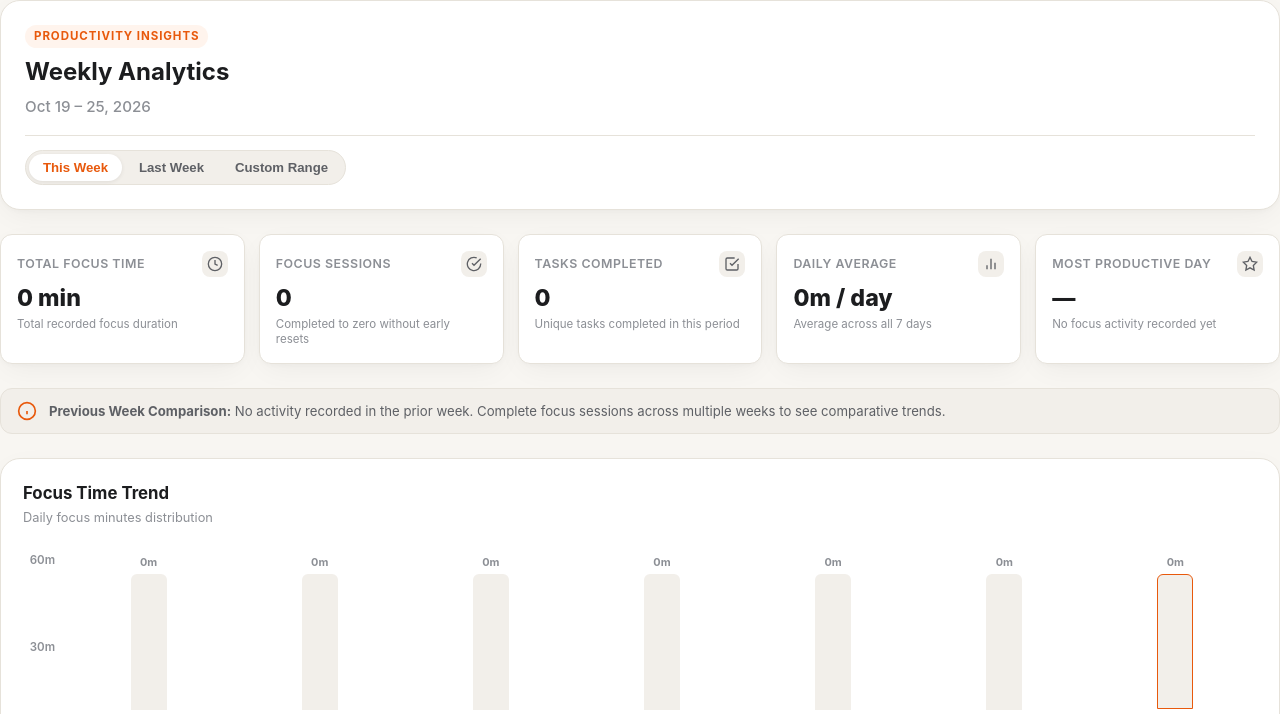
Scenario: Feature 7: Weekly Productivity Analytics Integration Tests › switches between This Week, Last Week, and Custom Range filters
Switch to Last Week
Click the tab with test id "range-last-week" at (172, 168), box left=125, top=154, right=218, bottom=181
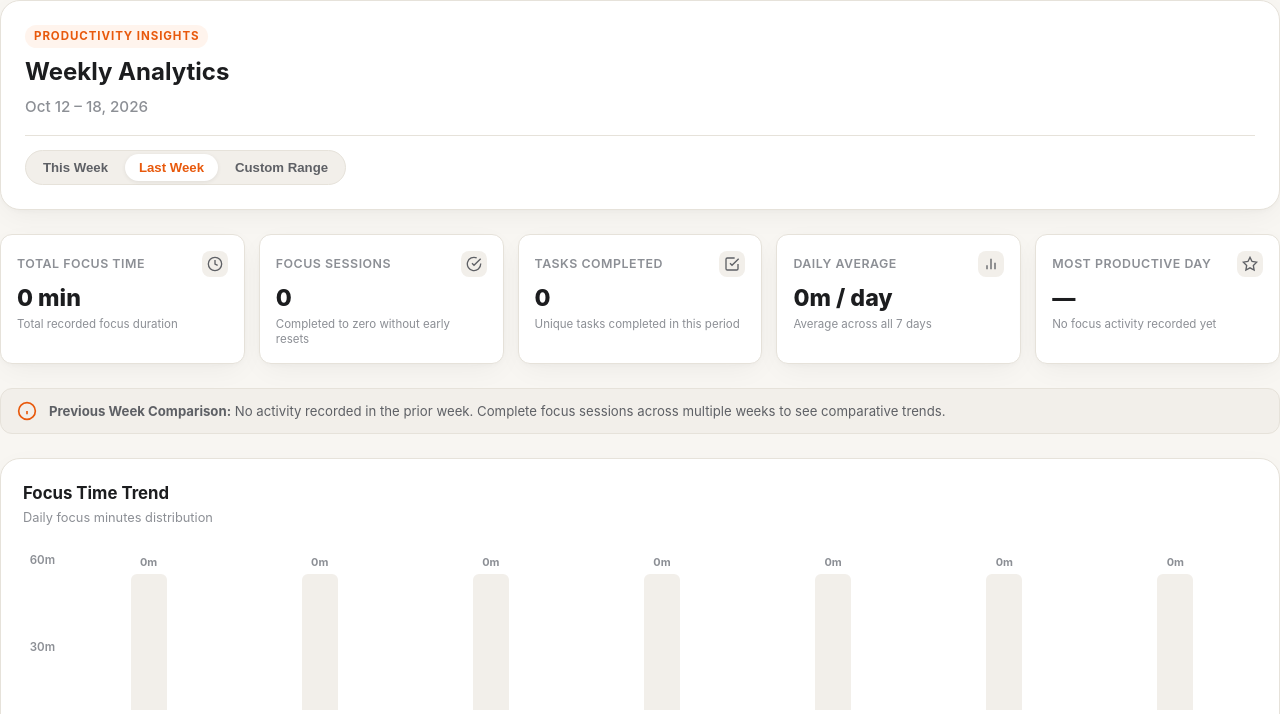
Result: the tab with test id "range-last-week" has class "active" at left=125, top=154, right=218, bottom=181
Result: the tab with test id "range-this-week" does not have class "active" at left=29, top=154, right=122, bottom=181
Switch to Custom Range
Click the tab with test id "range-custom" at (282, 168), box left=221, top=154, right=342, bottom=181
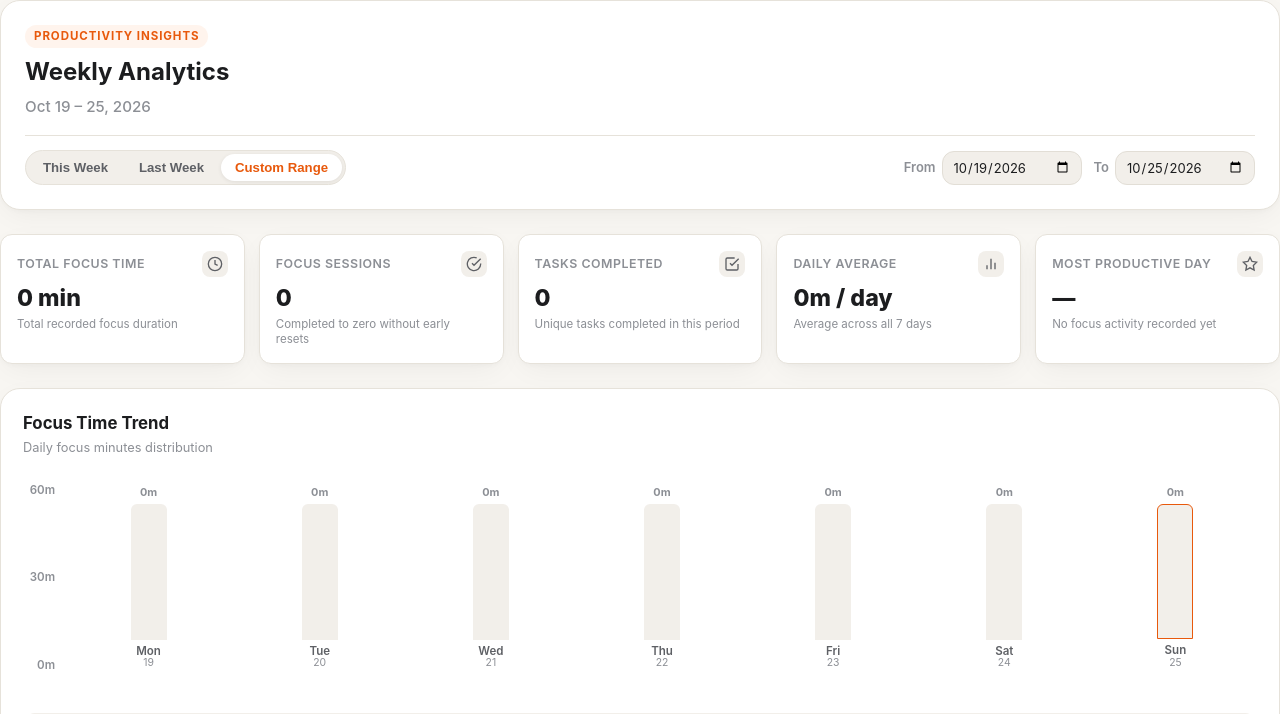
Result: the element with test id "custom-range-picker" is shown at left=904, top=151, right=1255, bottom=185
Type "2026-10-01" into the date field with test id "custom-start-input" at (1012, 168), box left=942, top=151, right=1082, bottom=185
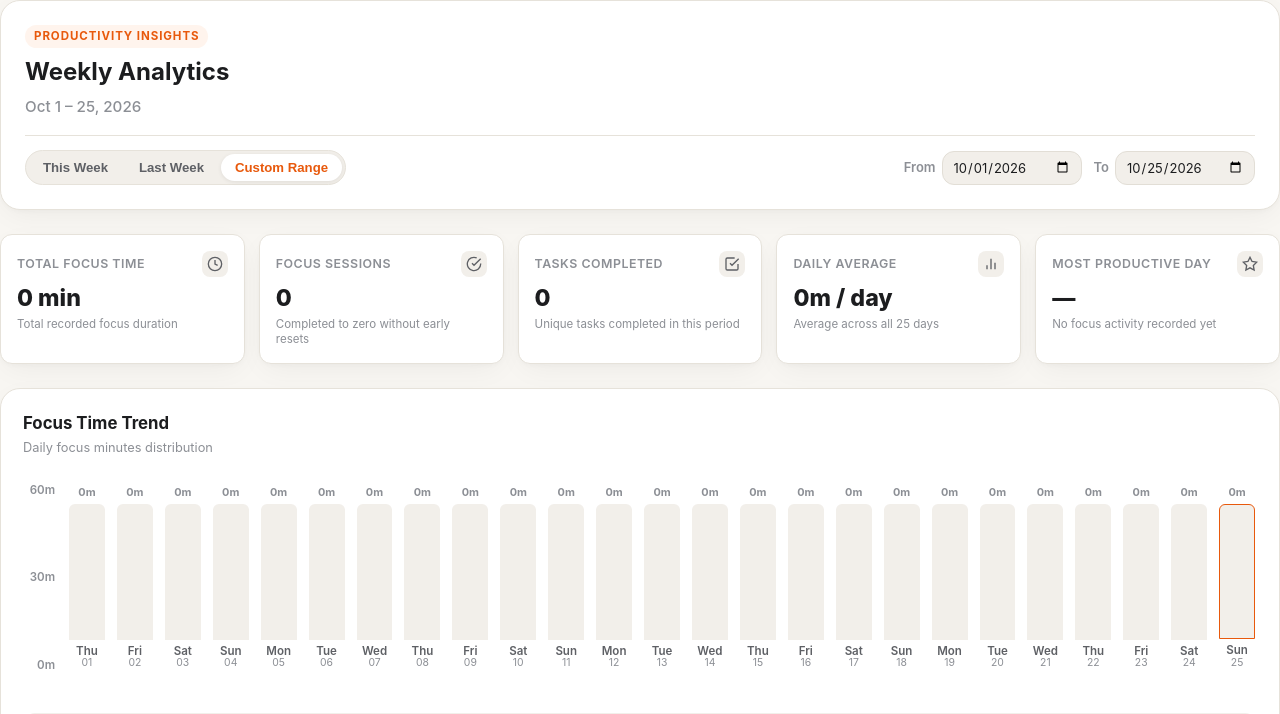
Type "2026-10-05" into the date field with test id "custom-end-input" at (1185, 168), box left=1115, top=151, right=1255, bottom=185
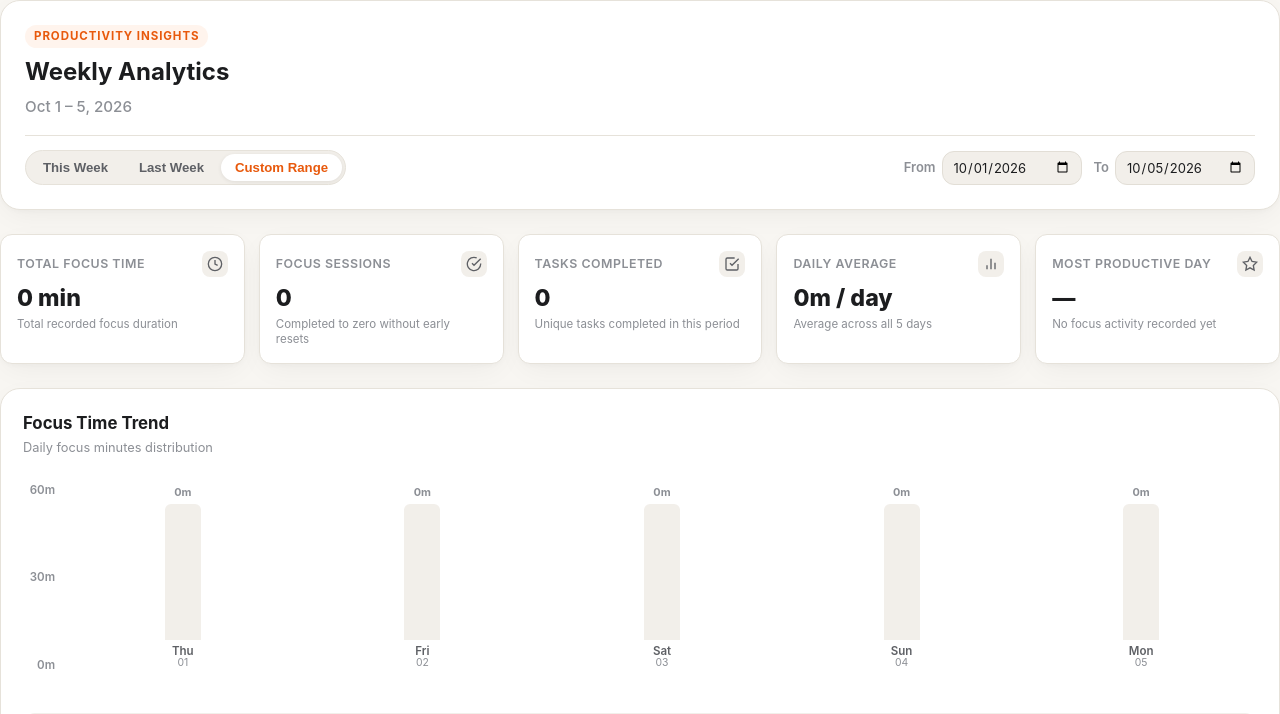
Result: the text with test id "analytics-range-display" reads "Oct 1 – 5, 2026" at left=25, top=97, right=132, bottom=116
